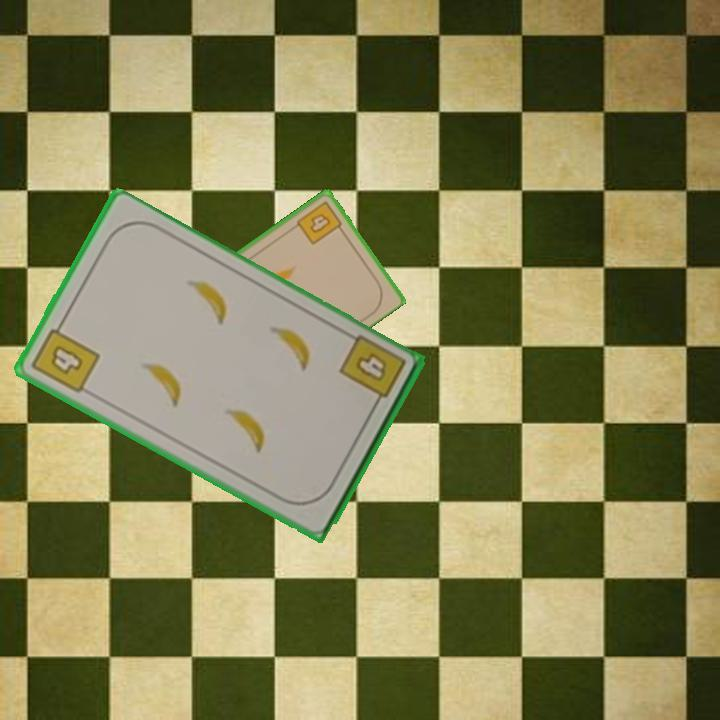4b: (27, 316, 103, 397), (335, 331, 409, 412), (293, 197, 347, 248)
